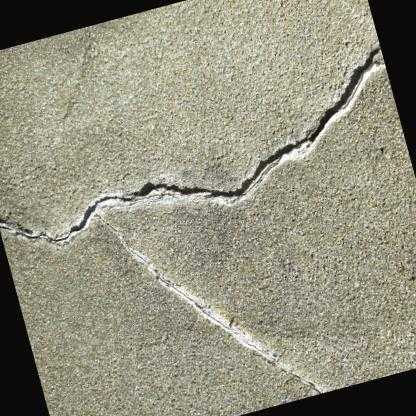crack: (0, 47, 380, 241), (94, 212, 321, 394)
